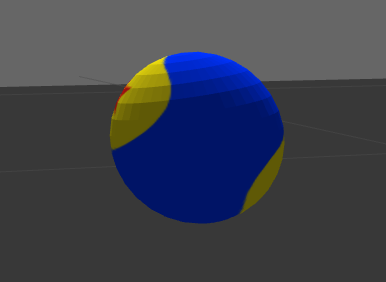toy story ball: (111, 52, 285, 224)
